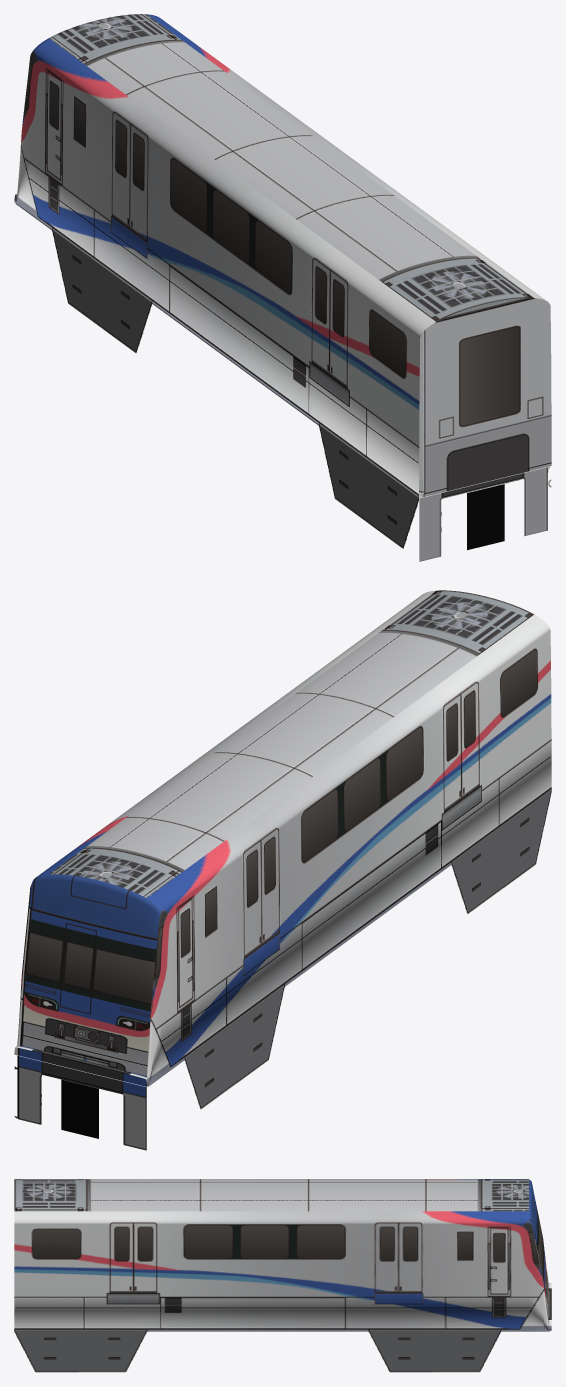
Rendered from car4.glb.
The picture shows the model from 3 angles, top to bottom: view 1: azimuth 30°, elevation 25°; view 2: azimuth 150°, elevation 25°; view 3: azimuth 270°, elevation 25°; orthographic projection. The views are drawn at different scales.
Visible parts, largest first — view 1: osakamono-3000-car4; view 2: osakamono-3000-car4; view 3: osakamono-3000-car4.
Boxes of the visible parts, x1,y1,x2,y2 form: osakamono-3000-car4: (14,14,551,561); osakamono-3000-car4: (14,590,551,1150); osakamono-3000-car4: (14,1179,551,1372).
Bounding box in the file's own units: 2.98 × 5.19 × 15.79.
Materials: 8 (7 with a texture image).
